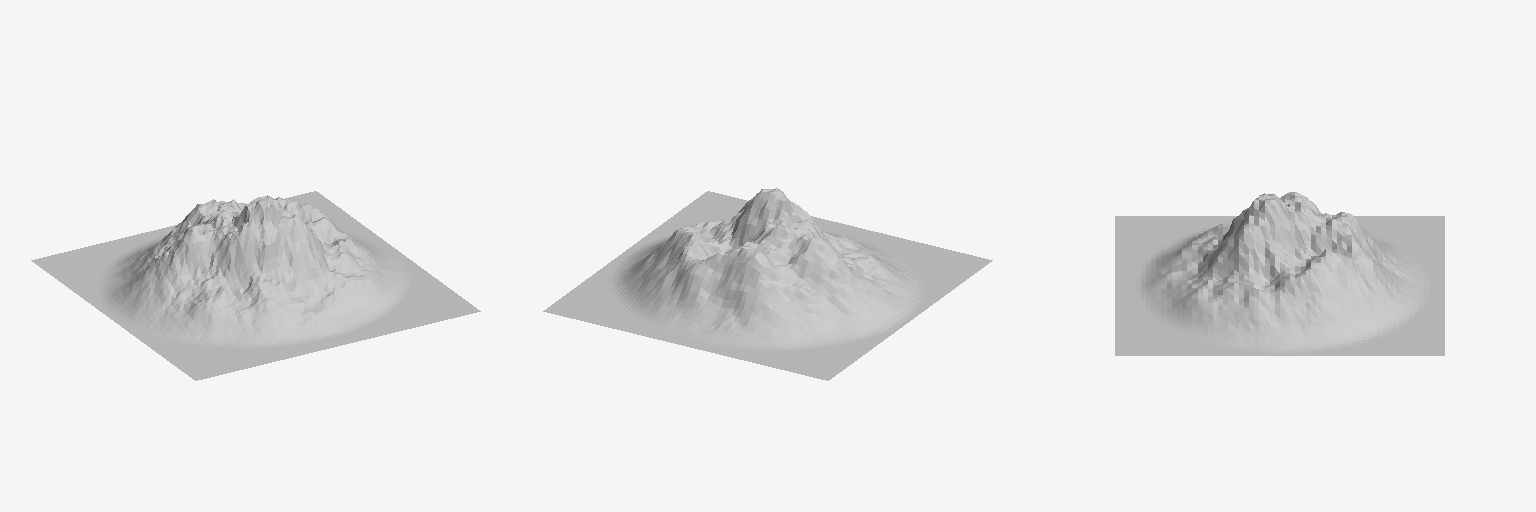
File: mou_005.obj
3 views of the same model, side by side, from view 1: azimuth 30°, elevation 25°; view 2: azimuth 150°, elevation 25°; view 3: azimuth 270°, elevation 25° (orthographic).
Parts seen in each view (by area): view 1: 平面.002; view 2: 平面.002; view 3: 平面.002.
Part boxes in pixels (x1,y1,x2,y2): 平面.002: (31, 191, 480, 380); 平面.002: (543, 187, 992, 380); 平面.002: (1115, 192, 1444, 355).
Bounding box in the file's own units: 425 × 173 × 425.